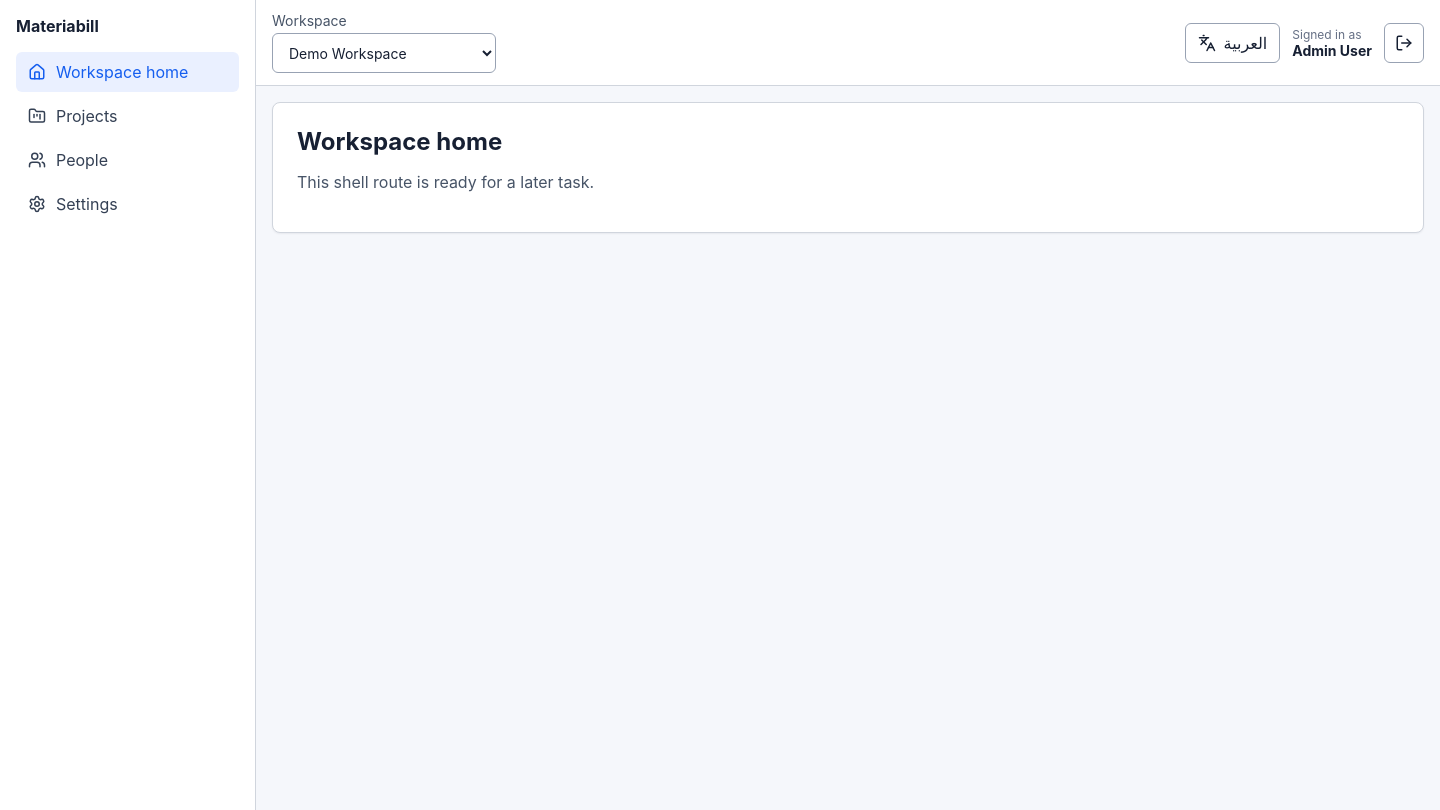
Test: App › surfaces logout failures without clearing the session
This screenshot has width=1440, height=810.
Expected: the heading "Workspace home" is shown, [297, 127, 502, 156]
Step 1. Click the button named "sign out" → [1404, 42], box [1384, 22, 1424, 62]
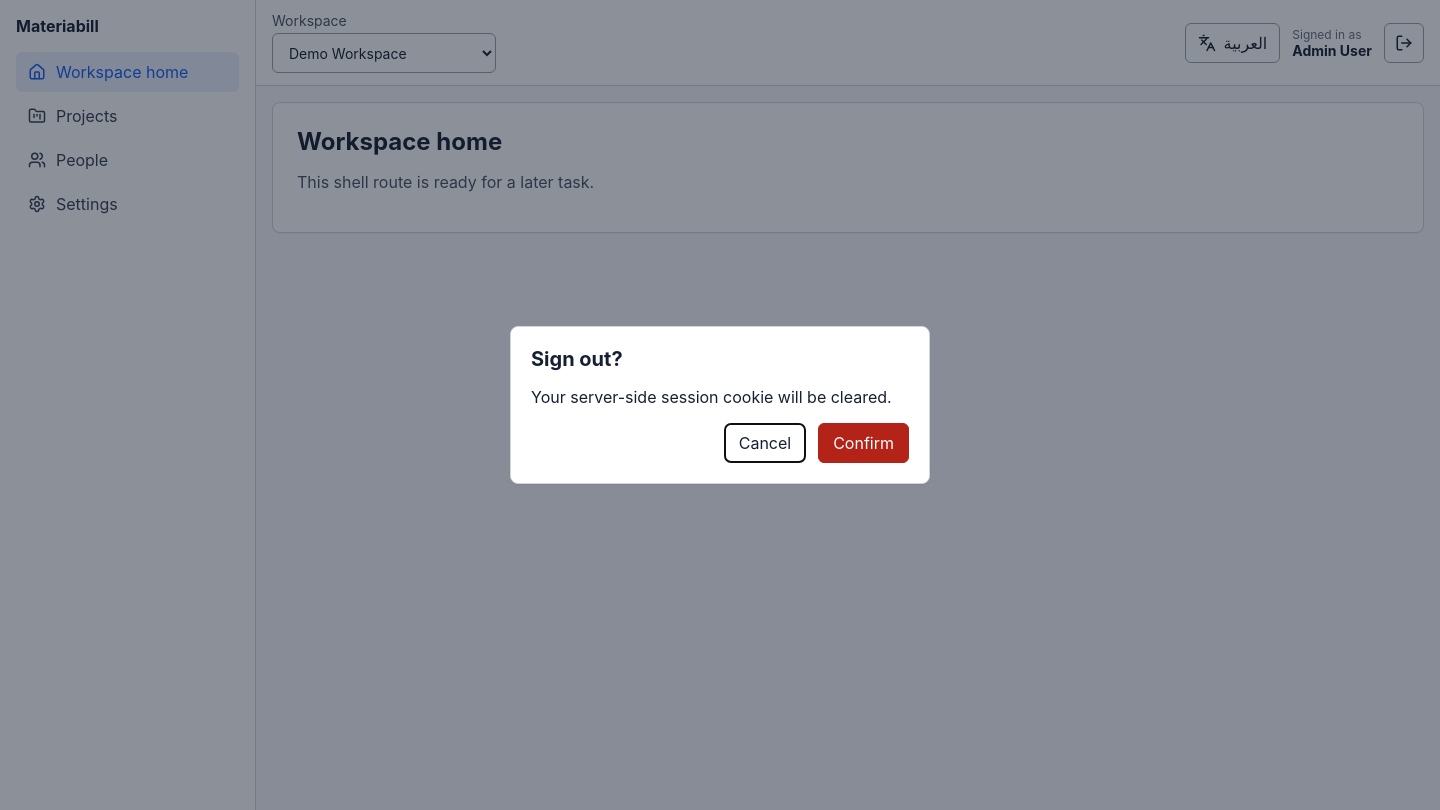
Step 2. Click the button "Confirm" → [864, 443], box [818, 423, 909, 463]
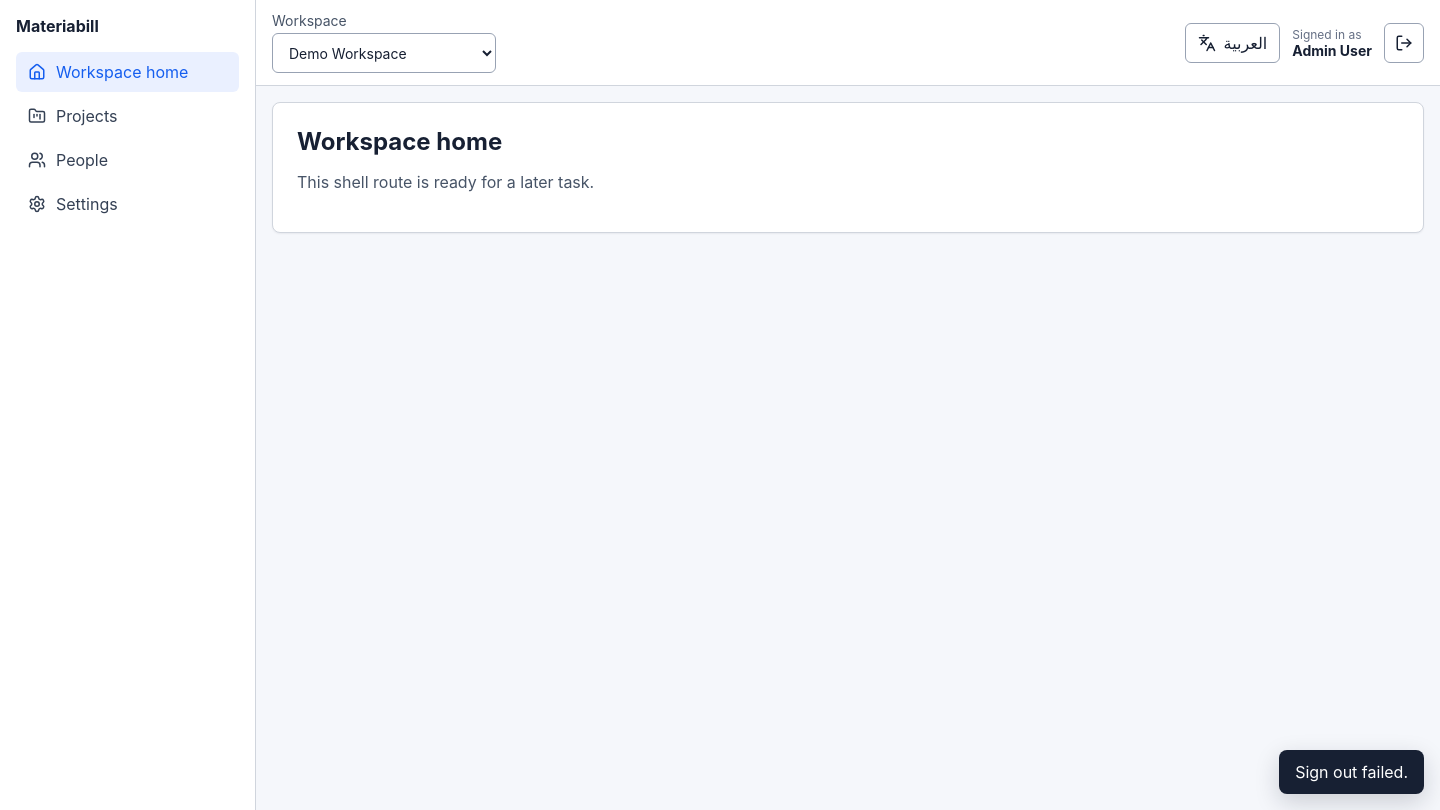
Expected: the heading "Workspace home" is shown, [297, 127, 502, 156]
Result: the text "Sign out failed." is shown at [1279, 750, 1424, 794]
